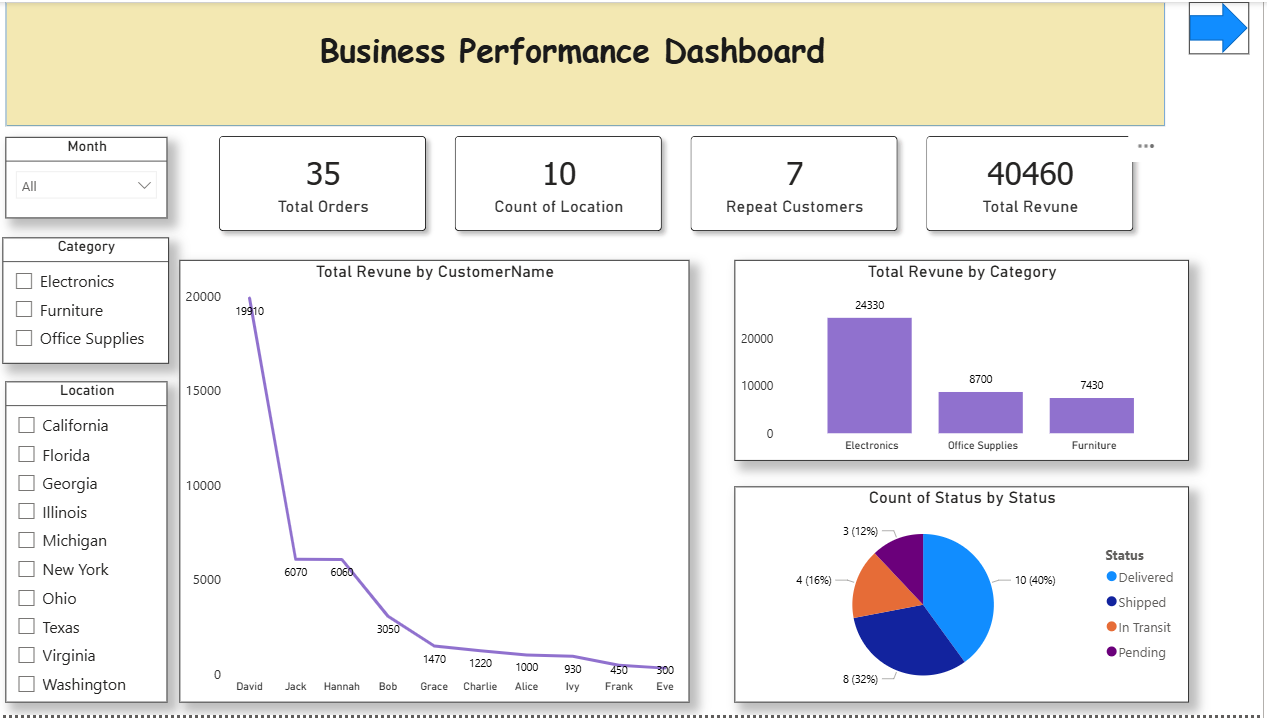

What the dashboard file says about the page in this screenshot:
{"tool":"powerbi","page":{"name":"Overall Dashboard","canvas":[1280,720],"ordinal":0},"visuals":[{"type":"cardVisual","fields":{"Data":["Orders.Total Orders","Customers.Location","Customers.Repeat Customers","Customers.Total Revune"]},"box":[196.8,106,984.2,154.4],"z":0},{"type":"shape","box":[10.6,0,1170.5,125.7],"z":1000},{"type":"shape","box":[1205.3,0,60.6,53],"z":2000},{"type":"textbox","box":[281.6,19.7,629.9,86.3],"z":3000},{"type":"slicer","title":"Category","fields":{"Values":["Products.Category"]},"box":[8.3,237,168.1,127.2],"z":4000},{"type":"slicer","title":"Location","fields":{"Values":["Customers.Location"]},"box":[10.6,383.1,163.5,324],"z":5000},{"type":"slicer","title":"Month","fields":{"Values":["Orders.OrderDate.Variation.Date Hierarchy.Month"]},"box":[10.6,136.3,163.5,81.8],"z":6000},{"type":"lineChart","fields":{"Category":["Customers.CustomerName"],"Y":["Customers.Total Revune"]},"box":[186.2,260.4,514.8,446.7],"z":7000},{"type":"columnChart","fields":{"Y":["Customers.Total Revune"],"Category":["Products.Category"]},"box":[746.5,260.4,458.8,202.9],"z":8000},{"type":"pieChart","fields":{"Category":["Shipping.Status"],"Y":["Shipping.Status"]},"box":[746.5,489.1,458.8,218],"z":9000}]}

Visuals, with their boxes in screenshot pixels (x1, y1, x2, y2), scaled from the page's 1280x720 canvas onto the 1267x718 screenshot:
cardVisual - Orders.Total Orders x Customers.Location: box=[195, 106, 1169, 260]
shape: box=[10, 0, 1169, 125]
shape: box=[1193, 0, 1253, 53]
textbox: box=[279, 20, 902, 106]
"Category" slicer: box=[8, 236, 175, 363]
"Location" slicer: box=[10, 382, 172, 705]
"Month" slicer: box=[10, 136, 172, 217]
lineChart - Customers.CustomerName x Customers.Total Revune: box=[184, 260, 694, 705]
columnChart - Customers.Total Revune x Products.Category: box=[739, 260, 1193, 462]
pieChart - Shipping.Status x Shipping.Status: box=[739, 488, 1193, 705]
